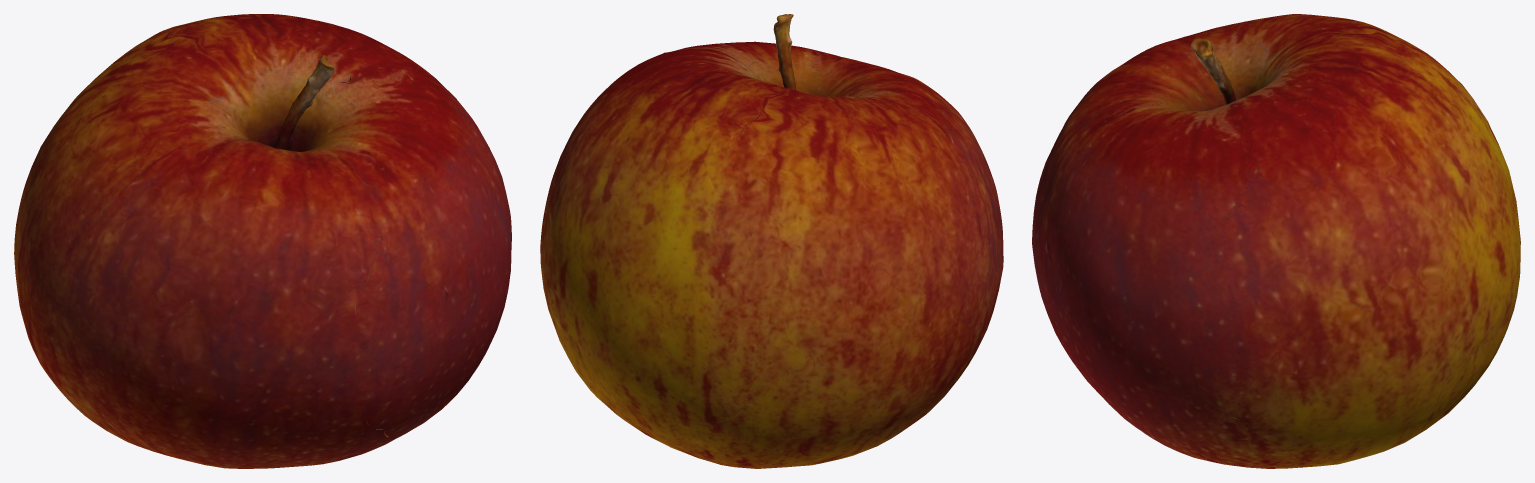
Rendered from apple.glb.
3 renders of one model, left to right at view 1: azimuth 30°, elevation 25°; view 2: azimuth 150°, elevation 25°; view 3: azimuth 270°, elevation 25°, orthographic. The views are drawn at different scales.
Visible parts, largest first — view 1: apple_apple_0; view 2: apple_apple_0; view 3: apple_apple_0.
Boxes of the visible parts, box(x1,y1,x2,y2) form: apple_apple_0: box(14, 14, 511, 468); apple_apple_0: box(540, 14, 1003, 468); apple_apple_0: box(1032, 14, 1520, 468).
Size of the model in its own units: 0.973 by 0.8601 by 0.9586.
1 material, 1 textured.
